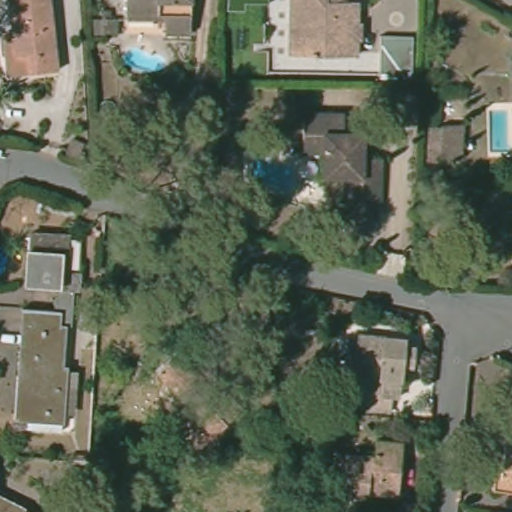pool: (243, 145, 306, 199), (112, 40, 177, 80), (482, 106, 512, 158)
